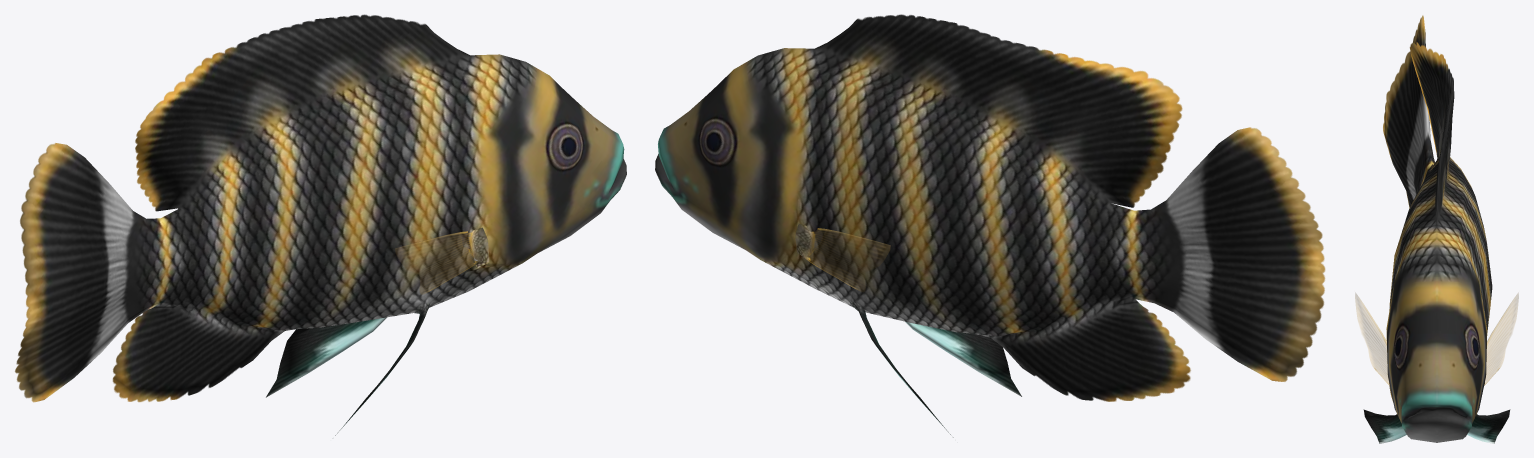
The model's file is tilapia.glb.
3 renders of one model, left to right at view 1: azimuth 30°, elevation 25°; view 2: azimuth 150°, elevation 25°; view 3: azimuth 270°, elevation 25°, orthographic. The views are drawn at different scales.
Parts seen in each view (by area): view 1: TILAPIA_0.001; view 2: TILAPIA_0.001; view 3: TILAPIA_0.001.
Boxes of the visible parts, bbox=[...] form: TILAPIA_0.001: bbox=[15, 14, 626, 437]; TILAPIA_0.001: bbox=[655, 14, 1325, 437]; TILAPIA_0.001: bbox=[1355, 15, 1518, 443].
Size of the model in its own units: 1 by 0.5942 by 0.2487.
1 material, 1 textured.
